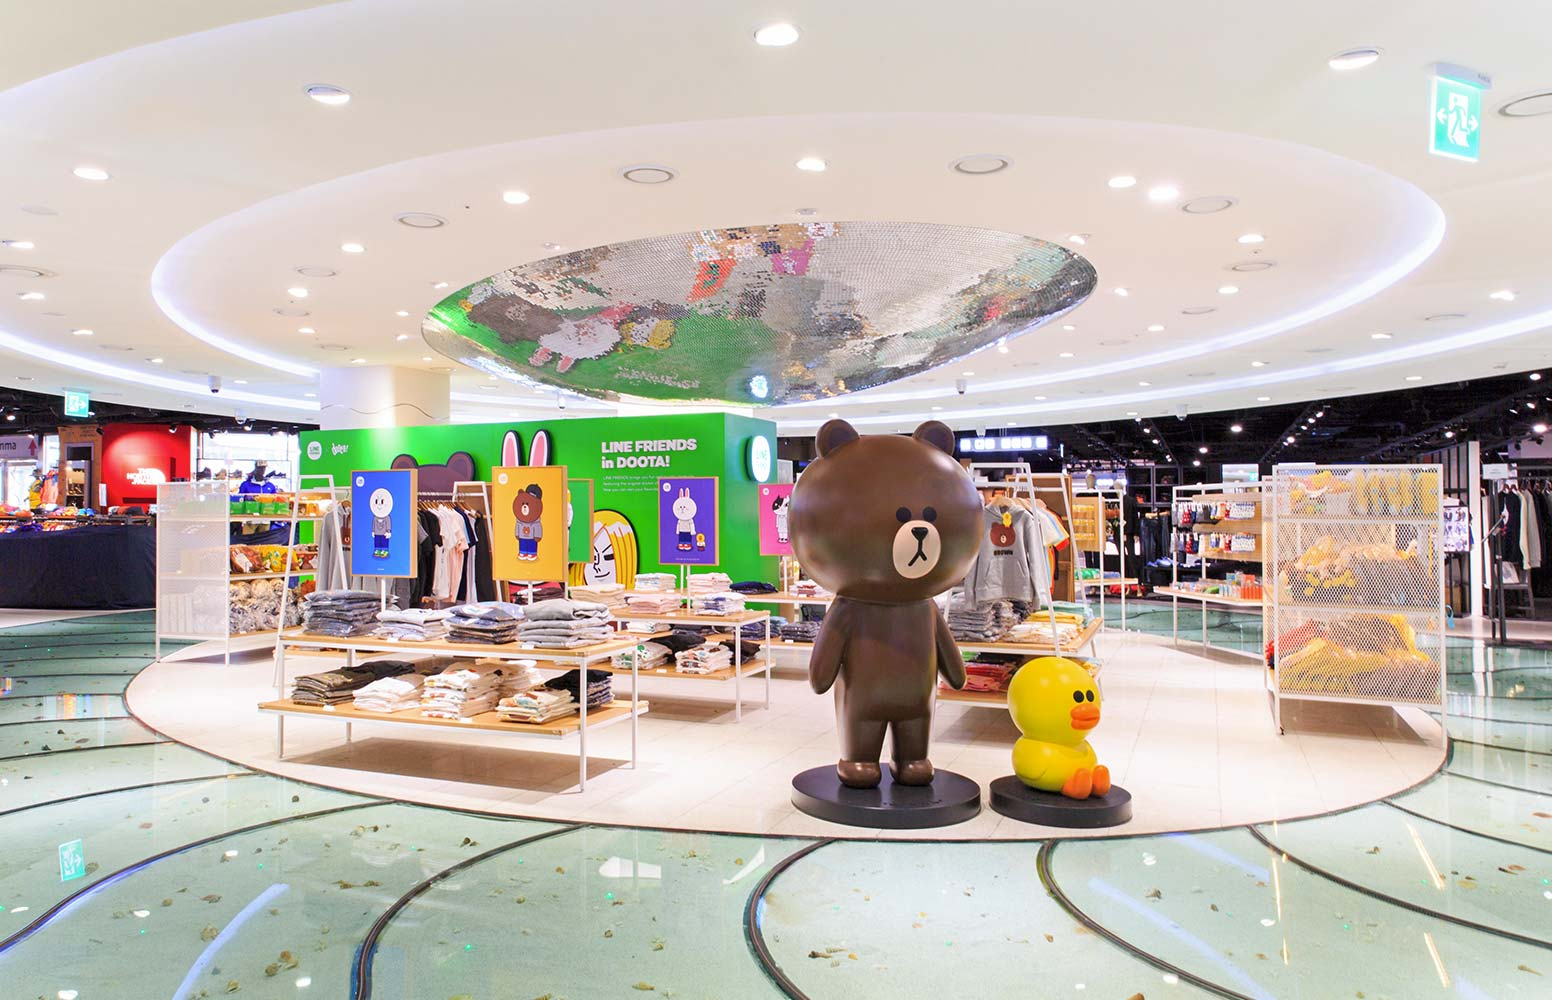line_brown: (768, 410, 993, 607)
